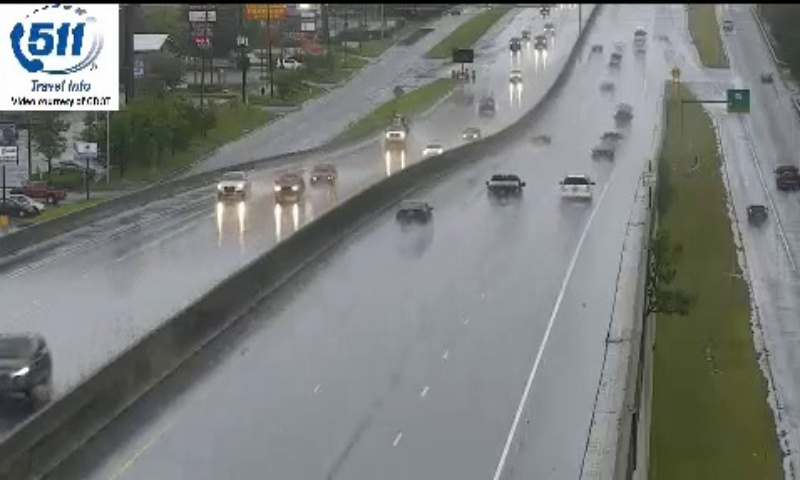car: (485, 173, 522, 203), (558, 175, 592, 201), (396, 200, 431, 224)
